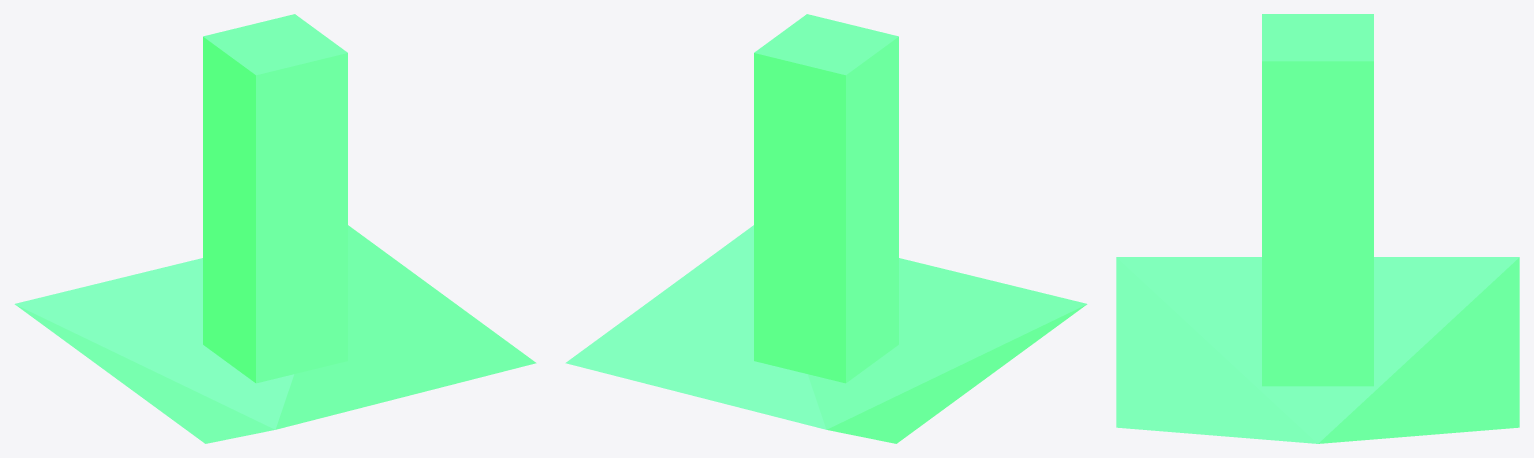
File: marker.glb
3 views of the same model, side by side, from view 1: azimuth 30°, elevation 25°; view 2: azimuth 150°, elevation 25°; view 3: azimuth 270°, elevation 25° (orthographic). The views are drawn at different scales.
Parts seen in each view (by area): view 1: marker; view 2: marker; view 3: marker.
Part boxes in pixels (x1,y1,x2,y2): marker: (14, 14, 536, 443); marker: (565, 14, 1087, 443); marker: (1116, 14, 1519, 443).
Size of the model in its own units: 0.9 by 1 by 0.9.
